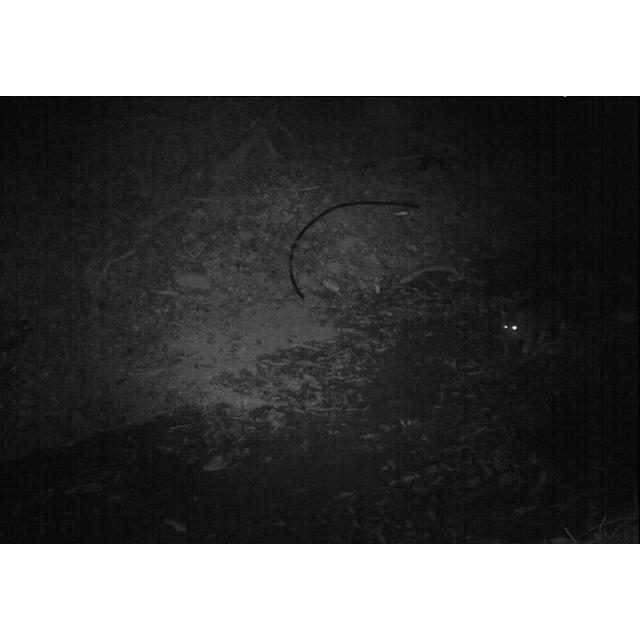animals: (496, 298, 574, 356)
